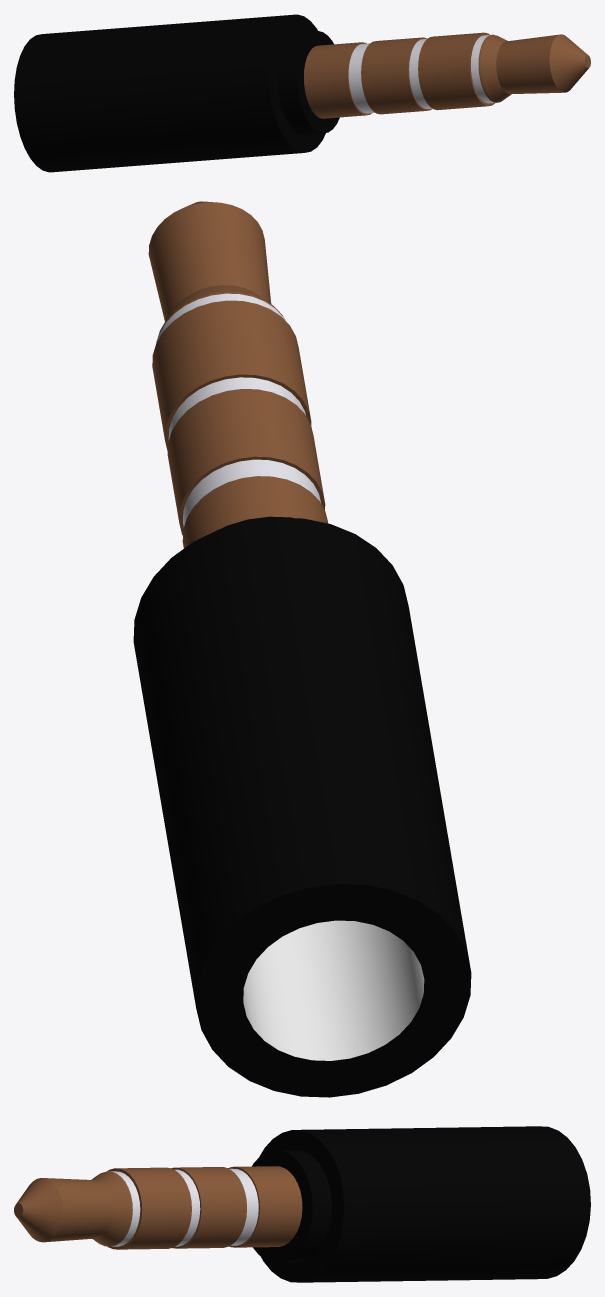
Rendered from conector.glb.
3 views of the same model, one above another, from view 1: azimuth 30°, elevation 25°; view 2: azimuth 150°, elevation 25°; view 3: azimuth 270°, elevation 25° (orthographic). The views are drawn at different scales.
Visible parts, largest first — view 1: MiniJack 3.5(outside).001; view 2: MiniJack 3.5(outside).001; view 3: MiniJack 3.5(outside).001.
Boxes of the visible parts, x1=… form: MiniJack 3.5(outside).001: x1=14, y1=14, x2=590, y2=172; MiniJack 3.5(outside).001: x1=133, y1=201, x2=471, y2=1097; MiniJack 3.5(outside).001: x1=14, y1=1126, x2=590, y2=1282.
Size of the model in its own units: 5.77 by 3.39 by 7.25.
